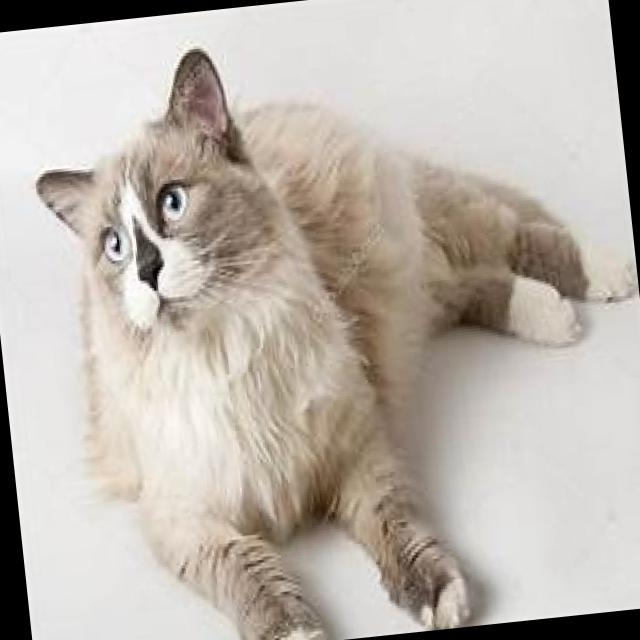animal: (27, 9, 640, 640)
